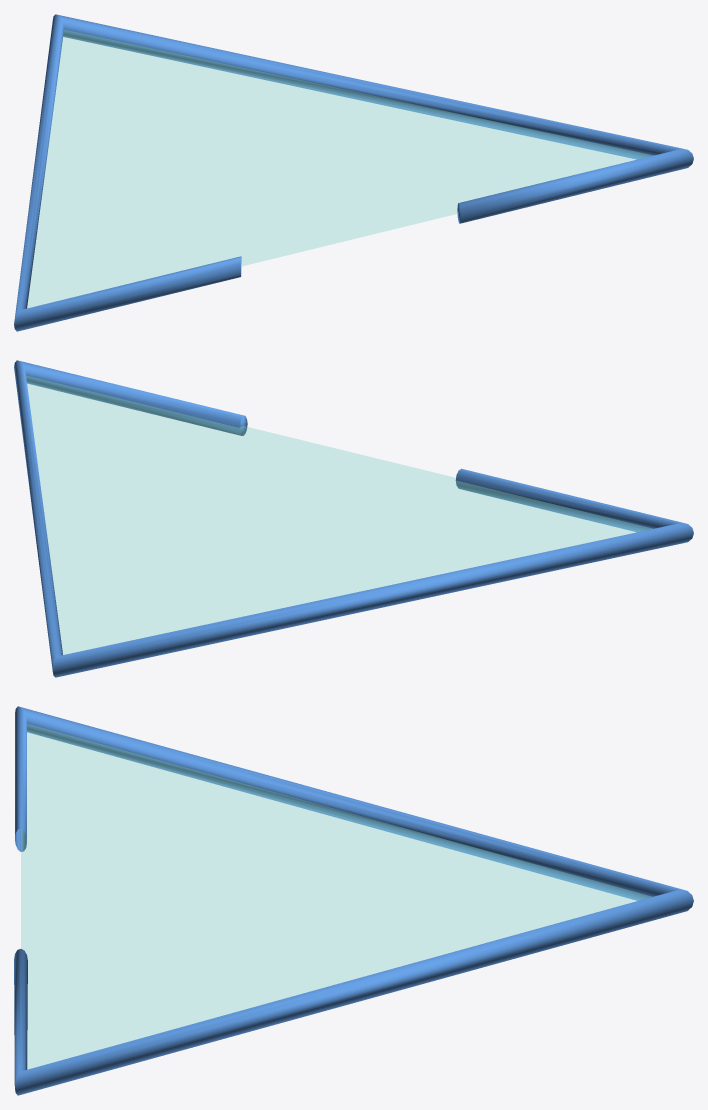
File: arrow_head.glb
3 views of the same model, one above another, from view 1: azimuth 30°, elevation 25°; view 2: azimuth 150°, elevation 25°; view 3: azimuth 270°, elevation 25° (orthographic). The views are drawn at different scales.
Parts seen in each view (by area): view 1: Plane.002; view 2: Plane.002; view 3: Plane.002.
Boxes of the visible parts, x1,y1,x2,y2 form: Plane.002: (14, 14, 693, 331); Plane.002: (14, 360, 693, 677); Plane.002: (14, 706, 693, 1095).
Bounding box in the file's own units: 2.05 × 0.06 × 1.58.
